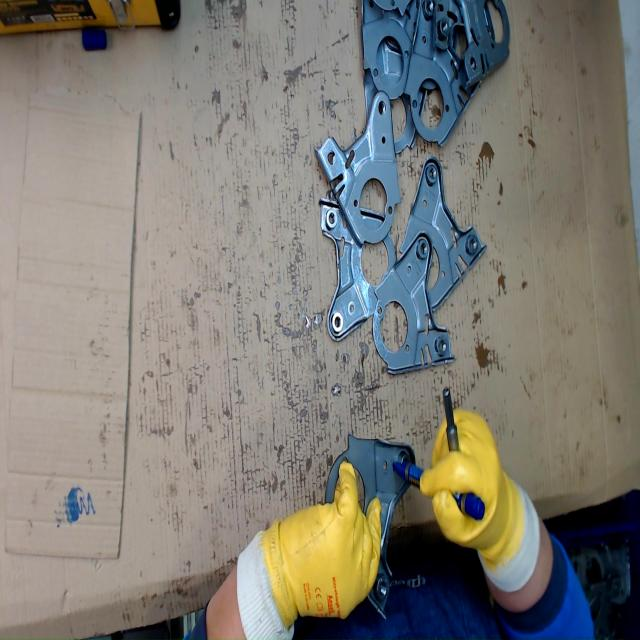hands: (270, 461, 384, 625), (418, 406, 520, 566)
